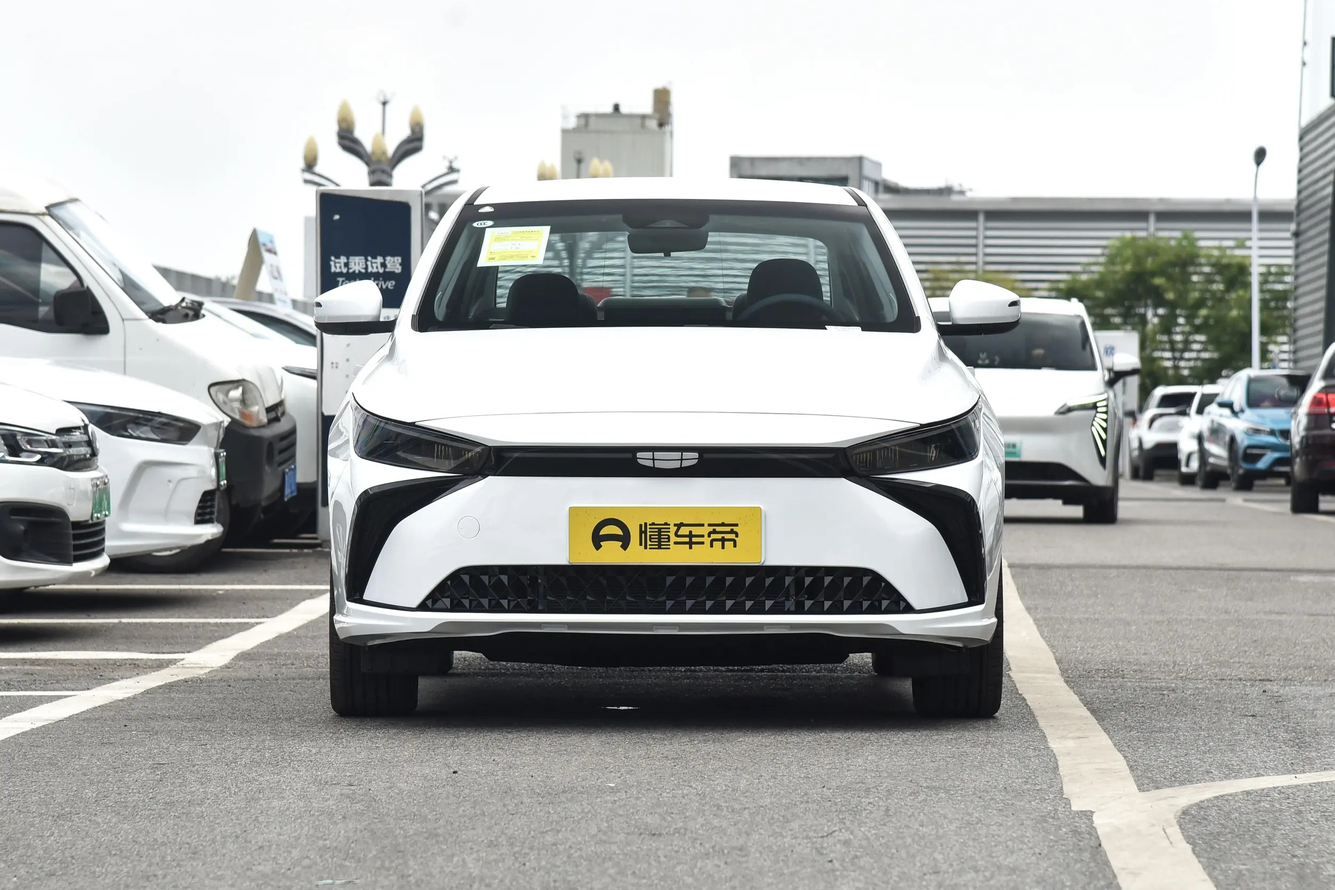GEOMETRY: (637, 453, 698, 468)
